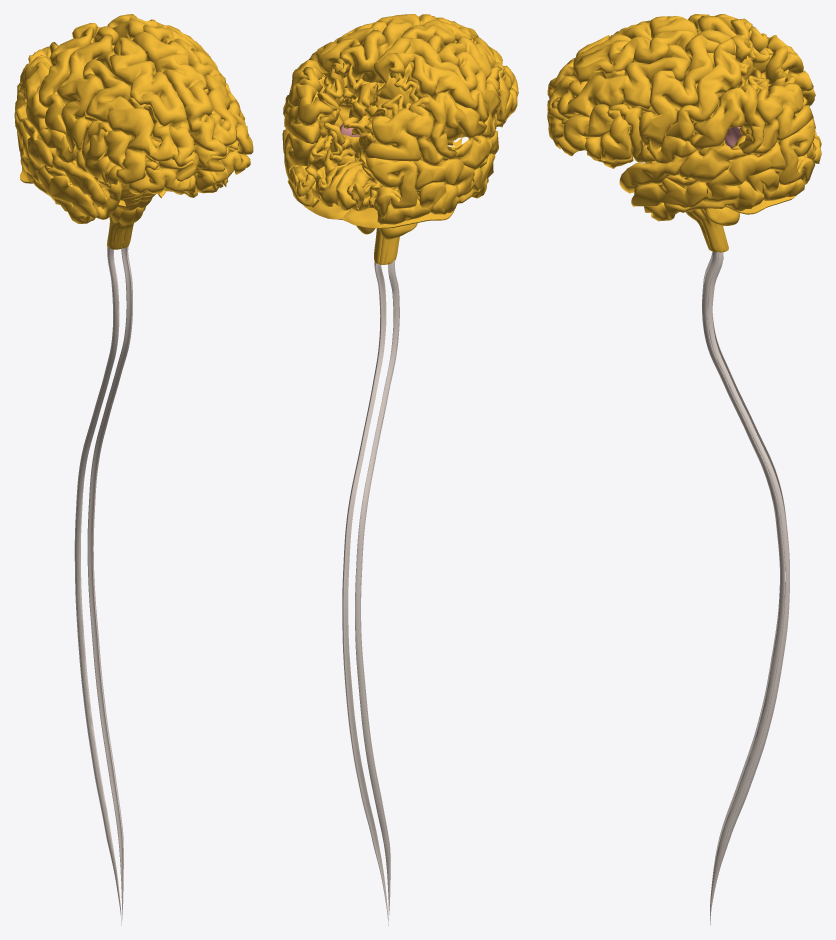
The model's file is encefalo.glb.
3 renders of one model, left to right at view 1: azimuth 30°, elevation 25°; view 2: azimuth 150°, elevation 25°; view 3: azimuth 270°, elevation 25°, orthographic.
Visible parts, largest first — view 1: Anterior spinocerebellar tract, Middle frontal gyrus.r, Posterior spinocerebellar tract, Superior frontal gyrus.l, Superior frontal gyrus.r, Precentral gyrus.r, Middle frontal gyrus.l, Postcentral gyrus.r, Superior temporal gyrus (Lateral part).r, Middle temporal gyrus.r, Supramarginal gyrus.r, Orbital gyri (Frontomarginal gyrus and sulcus*).r (+10 smaller); view 2: Posterior spinocerebellar tract, Anterior spinocerebellar tract, Angular gyrus.r, Supramarginal gyrus.r, Postcentral gyrus.r, Angular gyrus.l, Lateral occipital gyrus (Middle occipital gyrus*).r, Precentral gyrus.r, Middle temporal gyrus.r, Middle frontal gyrus.r, Paracentral gyrus and sulcus*.l, Inferior temporal gyrus.r (+18 smaller); view 3: Middle frontal gyrus.l, Anterior spinocerebellar tract, Posterior spinocerebellar tract, Precentral gyrus.l, Middle temporal gyrus.l, Superior frontal gyrus.l, Supramarginal gyrus.l, Postcentral gyrus.l, Superior temporal gyrus (Lateral part).l, Angular gyrus.l, Inferior temporal gyrus.l, Superior frontal gyrus.r (+10 smaller).
Part boxes in pixels (box(x1,y1,x2,y2)): Anterior spinocerebellar tract: box(75, 246, 132, 922); Middle frontal gyrus.r: box(83, 59, 177, 184); Posterior spinocerebellar tract: box(74, 246, 131, 925); Superior frontal gyrus.l: box(124, 32, 226, 173); Superior frontal gyrus.r: box(109, 37, 198, 168); Precentral gyrus.r: box(57, 34, 113, 151); Middle frontal gyrus.l: box(174, 38, 253, 154); Postcentral gyrus.r: box(38, 27, 93, 134); Superior temporal gyrus (Lateral part).r: box(20, 118, 108, 207); Middle temporal gyrus.r: box(14, 111, 97, 219); Supramarginal gyrus.r: box(15, 56, 51, 133); Orbital gyri (Frontomarginal gyrus and sulcus*).r: box(128, 164, 190, 194); Posterior spinocerebellar tract: box(342, 259, 398, 925); Anterior spinocerebellar tract: box(343, 260, 399, 922); Angular gyrus.r: box(365, 95, 448, 165); Supramarginal gyrus.r: box(418, 92, 486, 159); Postcentral gyrus.r: box(396, 52, 489, 122); Angular gyrus.l: box(284, 67, 333, 143); Lateral occipital gyrus (Middle occipital gyrus*).r: box(365, 157, 417, 218); Precentral gyrus.r: box(405, 38, 500, 120); Middle temporal gyrus.r: box(414, 153, 495, 197); Middle frontal gyrus.r: box(437, 36, 518, 96); Paracentral gyrus and sulcus*.l: box(339, 29, 386, 82); Inferior temporal gyrus.r: box(416, 178, 488, 214); Middle frontal gyrus.l: box(551, 57, 691, 151); Anterior spinocerebellar tract: box(702, 251, 784, 925); Posterior spinocerebellar tract: box(707, 252, 789, 920); Precentral gyrus.l: box(639, 34, 719, 149); Middle temporal gyrus.l: box(631, 142, 785, 208); Superior frontal gyrus.l: box(547, 30, 695, 112); Supramarginal gyrus.l: box(689, 84, 764, 155); Postcentral gyrus.l: box(666, 38, 741, 141); Superior temporal gyrus (Lateral part).l: box(619, 145, 745, 193); Angular gyrus.l: box(734, 83, 813, 155); Inferior temporal gyrus.l: box(644, 169, 781, 221); Superior frontal gyrus.r: box(547, 16, 701, 99).
Size of the model in its own units: 0.1378 by 0.6449 by 0.1779.
